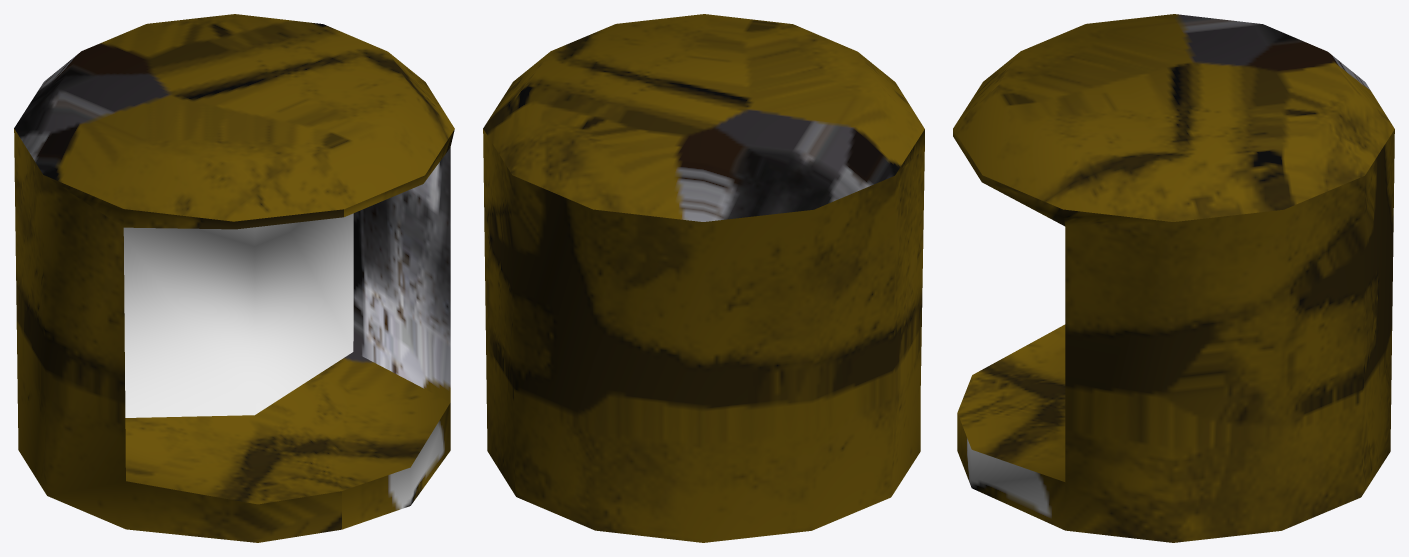
The model's file is armor_holder_to_track.fbx.
3 views of the same model, side by side, from view 1: azimuth 30°, elevation 25°; view 2: azimuth 150°, elevation 25°; view 3: azimuth 270°, elevation 25° (orthographic).
Parts seen in each view (by area): view 1: armor_holder_to_track; view 2: armor_holder_to_track; view 3: armor_holder_to_track.
Part boxes in pixels (left/top/right/bottom): armor_holder_to_track: left=14, top=14, right=454, bottom=542; armor_holder_to_track: left=483, top=14, right=924, bottom=542; armor_holder_to_track: left=953, top=14, right=1394, bottom=542.
Size of the model in its own units: 46.92 by 42.49 by 46.92.
